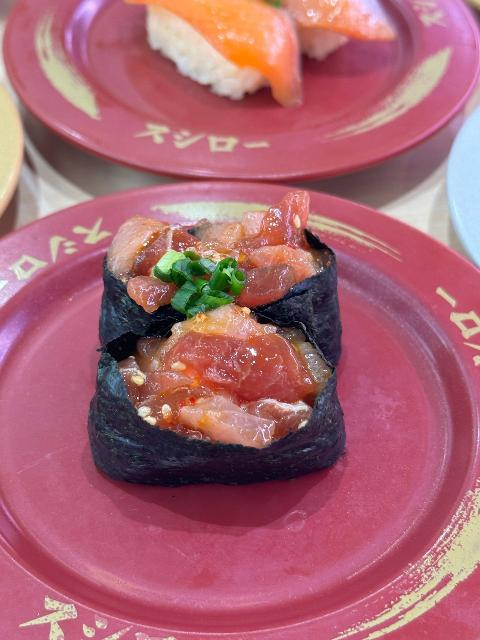jangold: (0, 69, 32, 210)
janred: (0, 203, 466, 634), (8, 0, 438, 173)
janwhite: (444, 104, 480, 255)
